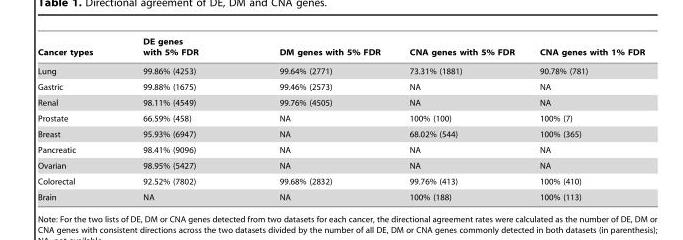table: (36, 36, 644, 201)
table column: (238, 36, 394, 201), (394, 36, 526, 201), (117, 36, 238, 201), (526, 36, 644, 201), (36, 36, 117, 201)
table column header: (36, 36, 644, 61)
table row: (36, 36, 644, 61), (36, 61, 644, 78), (36, 78, 644, 94), (36, 94, 644, 110), (36, 110, 644, 126), (36, 141, 644, 157), (36, 157, 644, 173), (36, 173, 644, 189), (36, 126, 644, 141), (36, 189, 644, 201)
